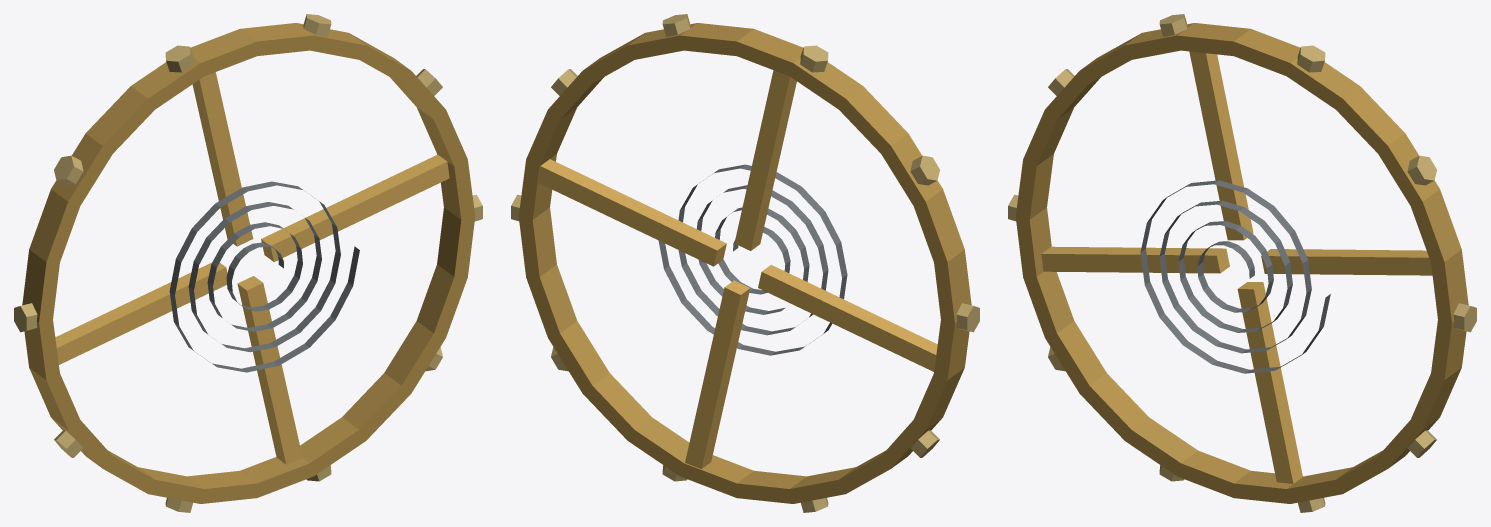
The model's file is Balance.glb.
3 renders of one model, left to right at view 1: azimuth 30°, elevation 25°; view 2: azimuth 150°, elevation 25°; view 3: azimuth 330°, elevation 25°, orthographic.
Visible parts, largest first — view 1: Balance; view 2: Balance; view 3: Balance.
Part boxes in pixels (x1,y1,x2,y2): Balance: (14,14,482,512); Balance: (511,14,979,512); Balance: (1008,14,1476,512).
Bounding box in the file's own units: 0.684 × 0.6623 × 0.0595.
